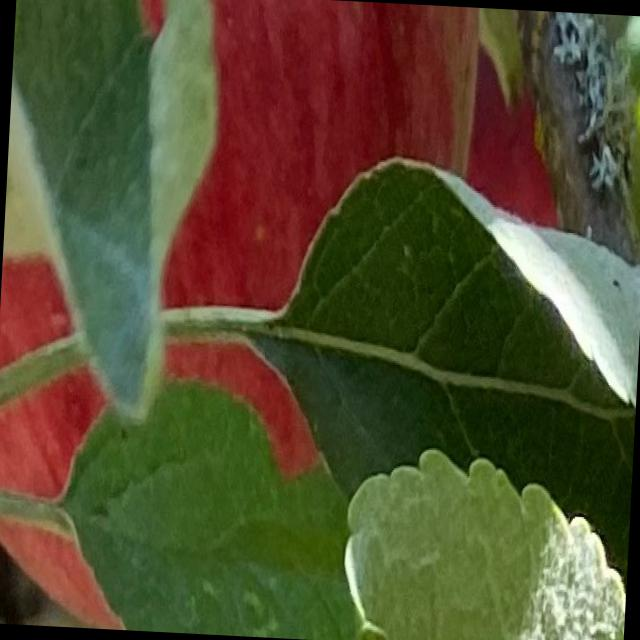Apples: (0, 0, 481, 639), (462, 46, 572, 231)
